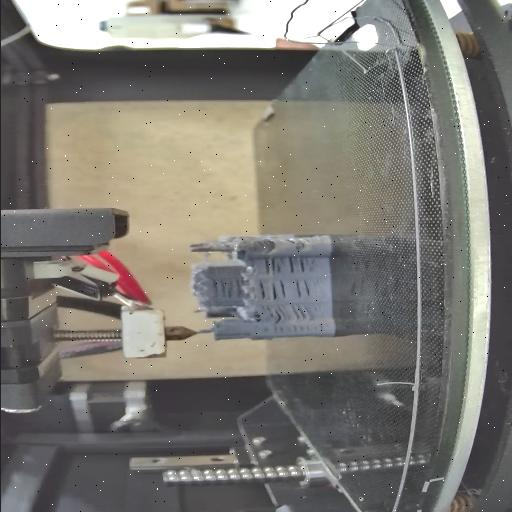cracks: (240, 324, 326, 337), (206, 275, 244, 298), (286, 256, 318, 276), (258, 277, 286, 299), (288, 304, 310, 324), (258, 307, 282, 324), (292, 280, 314, 298), (258, 258, 284, 273), (252, 236, 276, 250), (285, 236, 305, 248)
